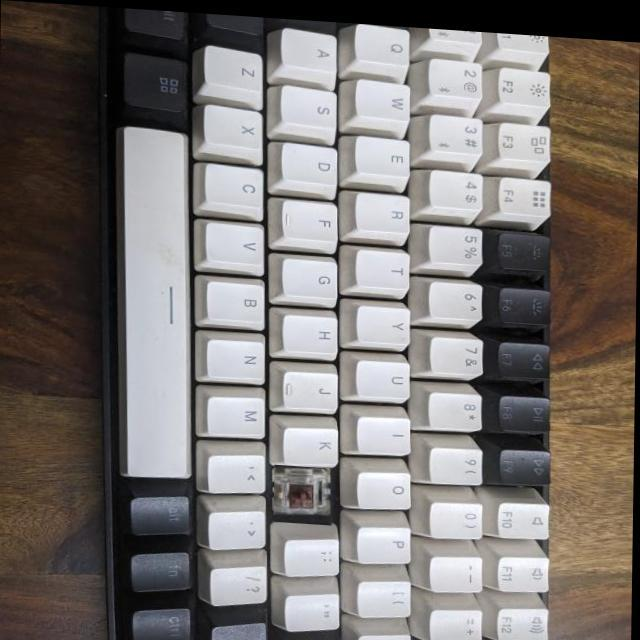key-switch: (274, 460, 333, 521)
